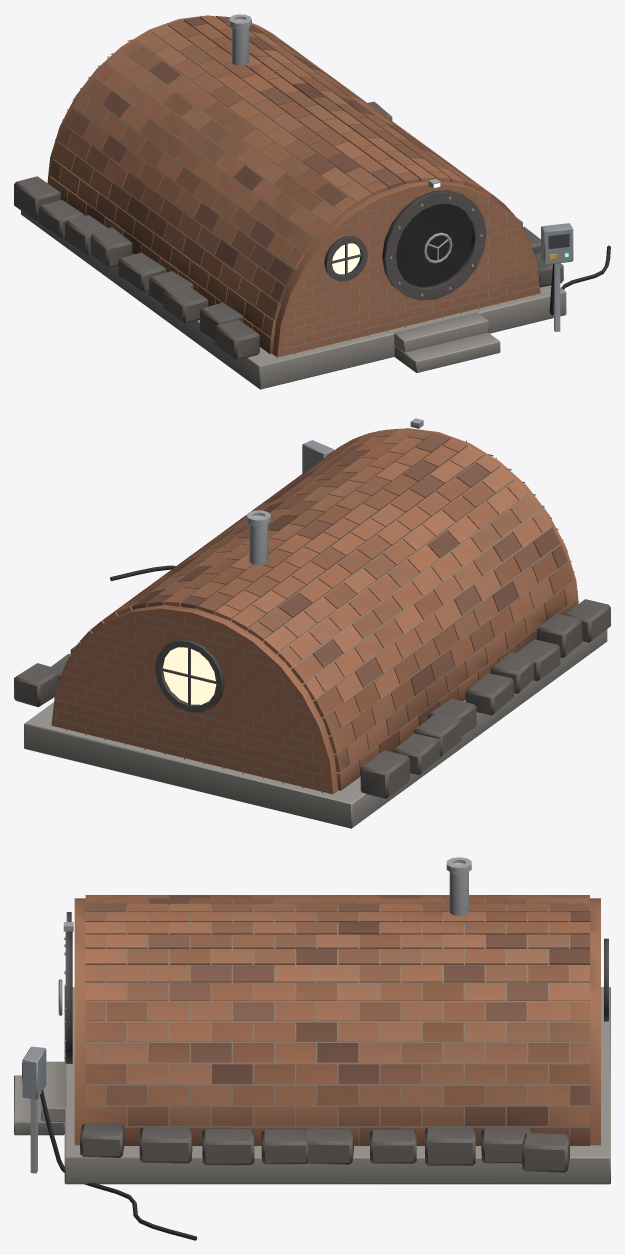
File: bs_quarters.glb
3 views of the same model, one above another, from view 1: azimuth 30°, elevation 25°; view 2: azimuth 150°, elevation 25°; view 3: azimuth 270°, elevation 25° (orthographic). The views are drawn at different scales.
Visible parts, largest first — view 1: bs_quarters_mesh; view 2: bs_quarters_mesh; view 3: bs_quarters_mesh.
Boxes of the visible parts, bbox=[...] form: bs_quarters_mesh: bbox=[14, 14, 610, 389]; bs_quarters_mesh: bbox=[14, 418, 610, 828]; bs_quarters_mesh: bbox=[14, 857, 610, 1240].
Size of the model in its own units: 5.62 by 2.59 by 5.9.
